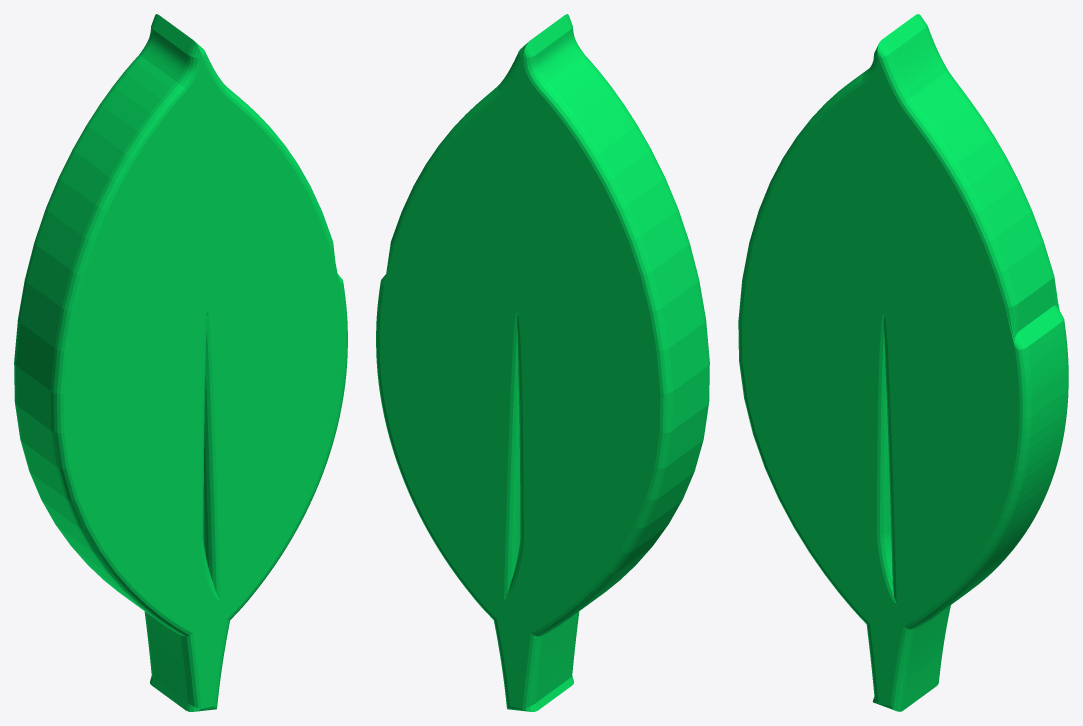
Rendered from mongodb-transformed.glb.
3 renders of one model, left to right at view 1: azimuth 30°, elevation 25°; view 2: azimuth 150°, elevation 25°; view 3: azimuth 330°, elevation 25°, orthographic.
Size of the model in its own units: 12.23 by 26.64 by 3.3.
